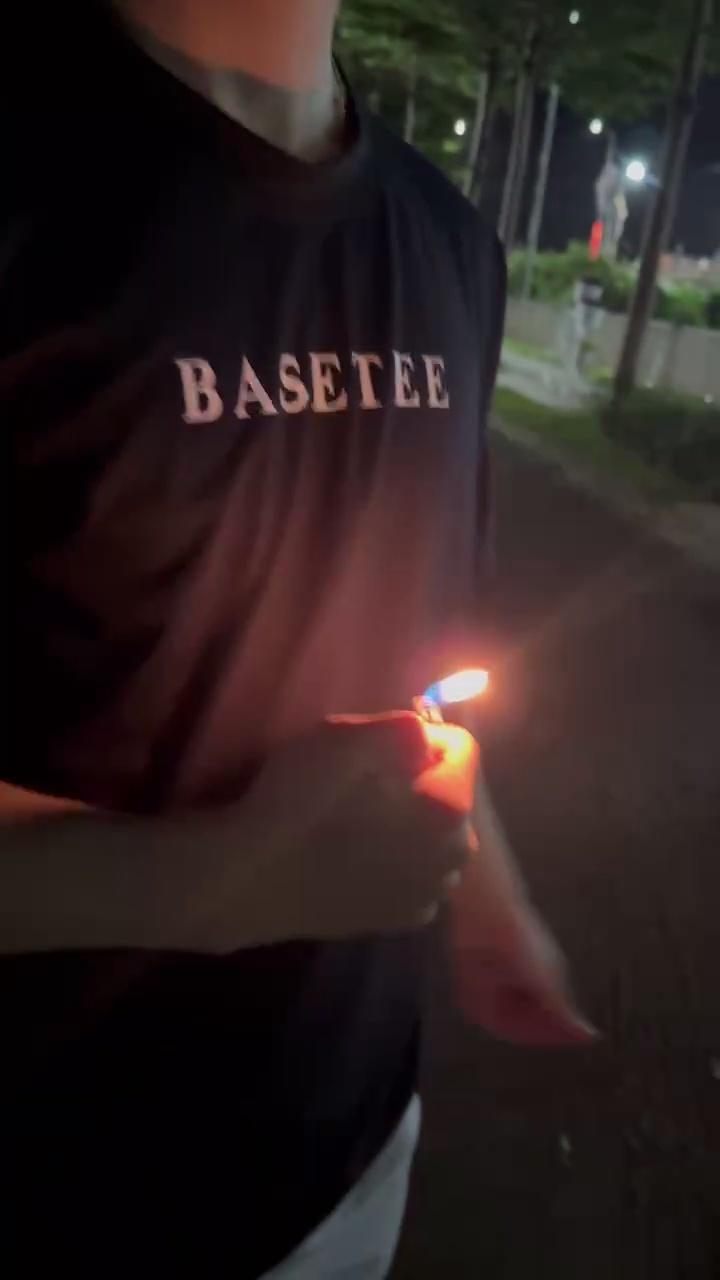Fire: (372, 628, 515, 725)
